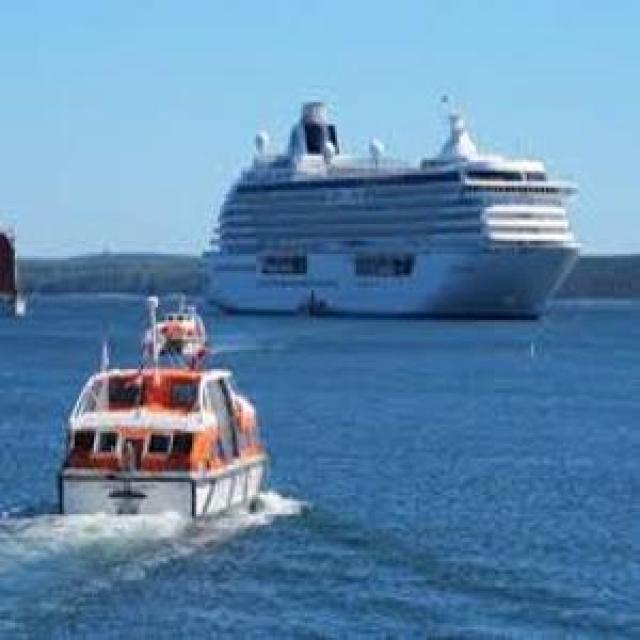navalvessels: (59, 289, 266, 523)
passenger ship: (206, 96, 577, 322)
